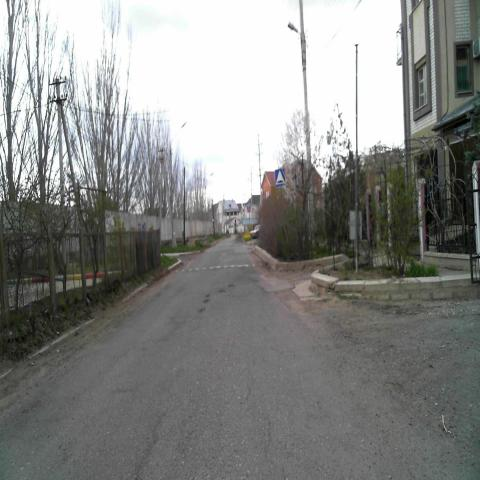5_20: (274, 169, 286, 187)
